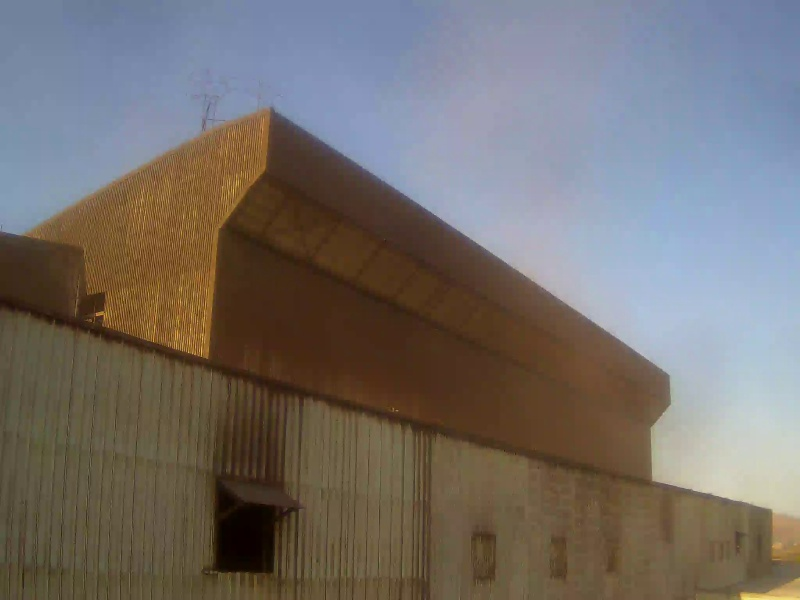Pessimo: (250, 107, 695, 504)
